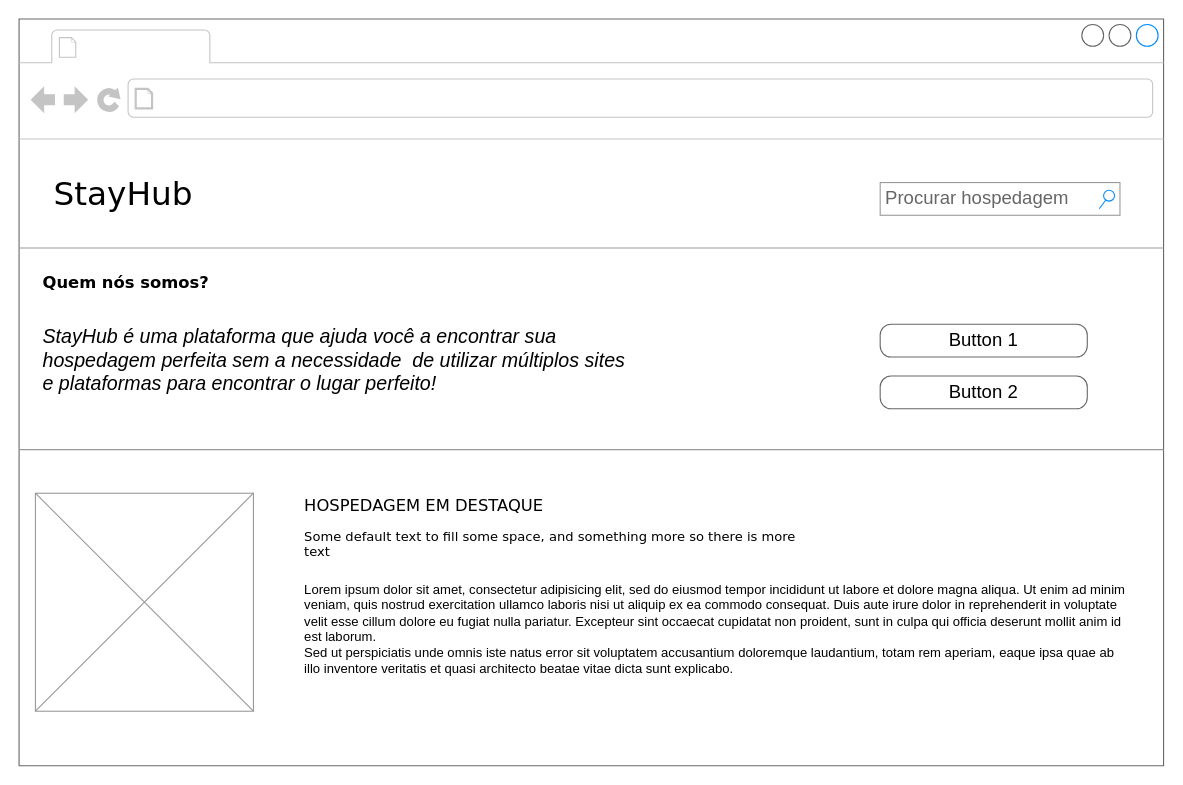
The diagram is 1183 pixels wide and 785 high, and some of its shapes have lost their labels. The centre of each missing label's shape, as x and y in pixels:
"https://www.stayhub.com" goes at (296,98).
"Page 1" goes at (143,45).
